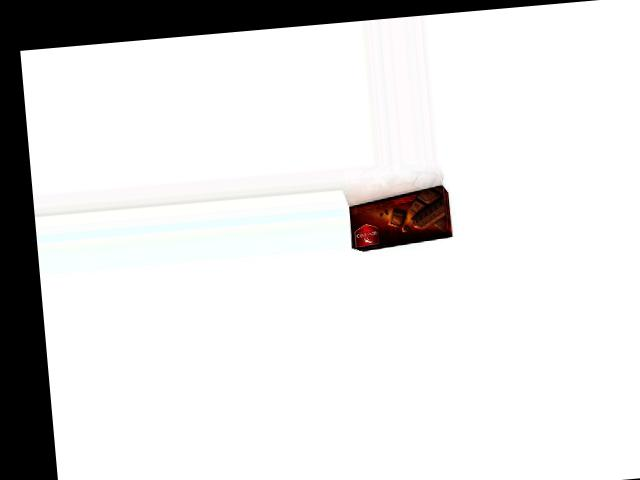chocolate: (346, 183, 451, 253)
